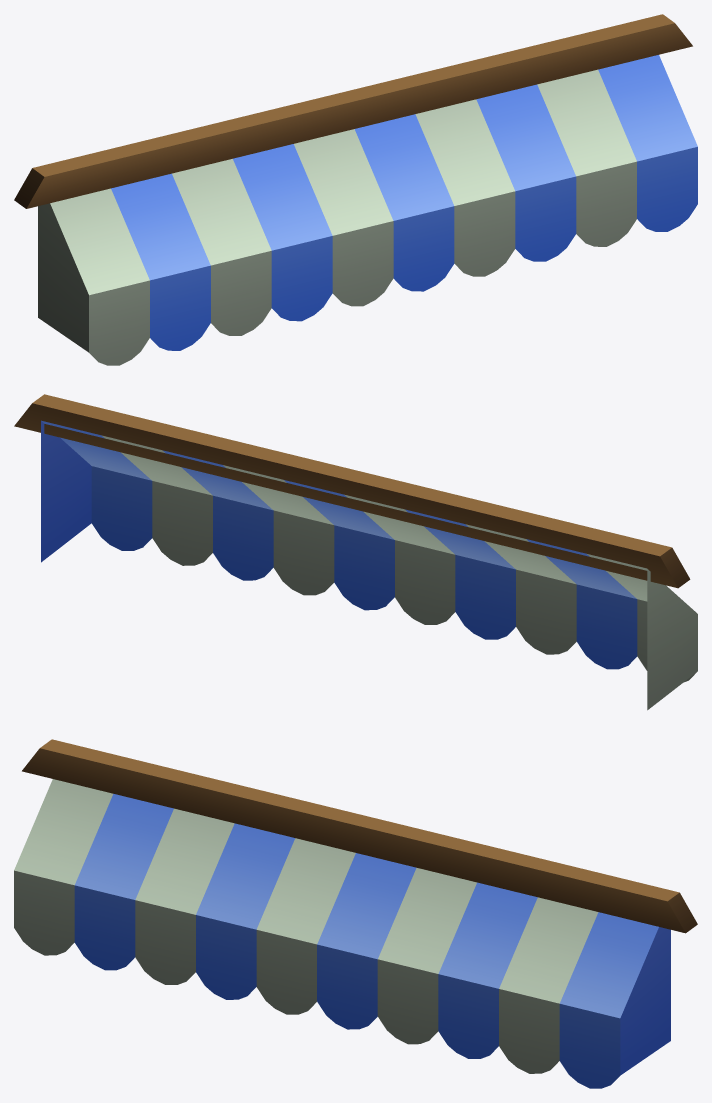
Rendered from Awning_03A.fbx.
3 renders of one model, top to bottom at view 1: azimuth 30°, elevation 25°; view 2: azimuth 150°, elevation 25°; view 3: azimuth 330°, elevation 25°, orthographic.
Parts seen in each view (by area): view 1: Awning_03A; view 2: Awning_03A; view 3: Awning_03A.
Part boxes in pixels (x1,y1,x2,y2): Awning_03A: [14, 14, 697, 365]; Awning_03A: [14, 394, 697, 710]; Awning_03A: [14, 739, 697, 1088].
Size of the model in its own units: 539 by 133 by 71.35.
2 materials, 2 textured.
